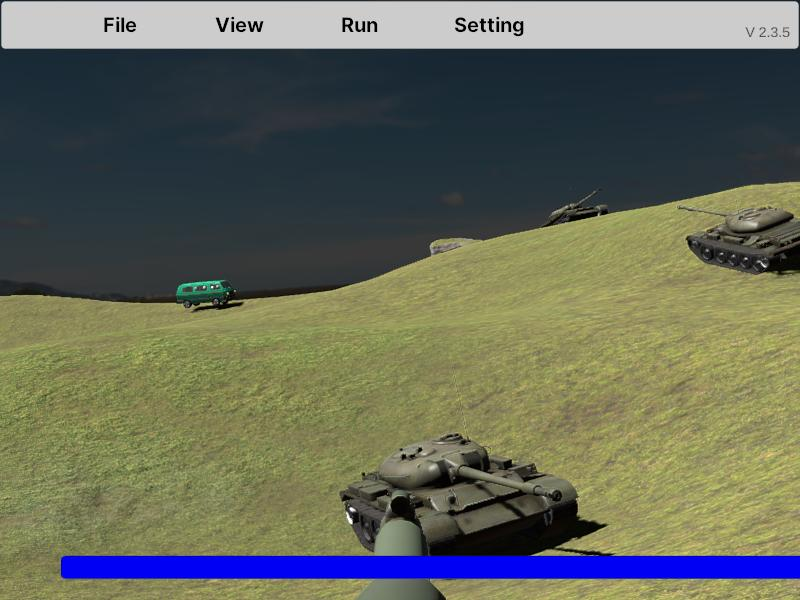Tank: (340, 434, 578, 566), (676, 205, 800, 275)
car: (176, 280, 235, 309)
